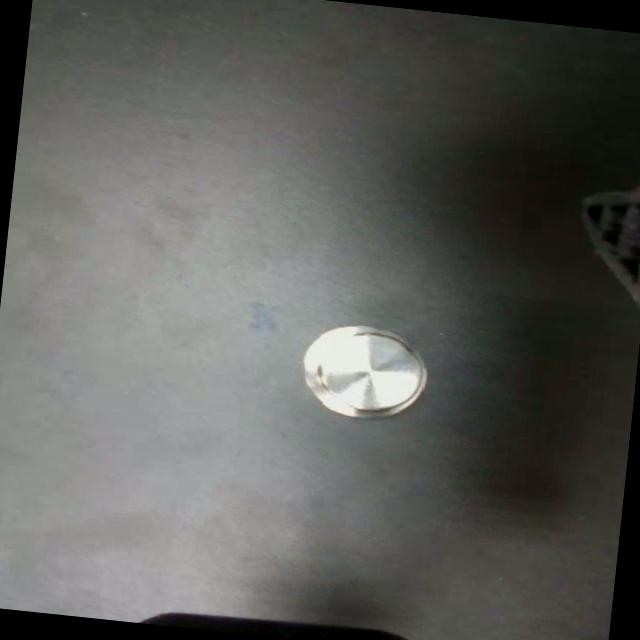sensor: (294, 318, 431, 427)
